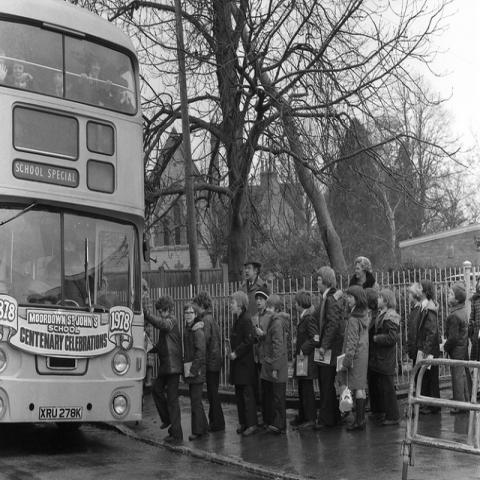bus: (0, 2, 152, 422)
